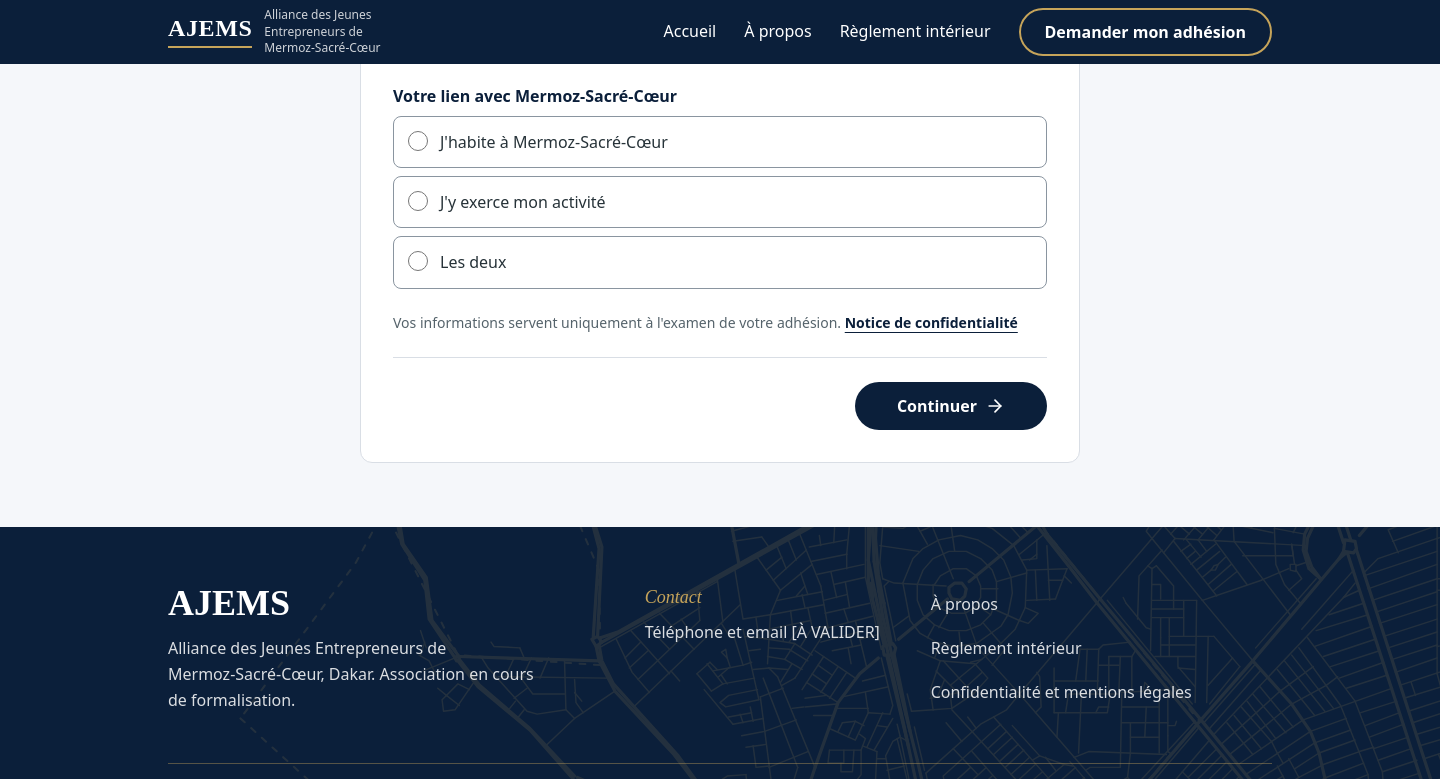
it: membership form › shows errors and stays on step 1 when required fields are empty
(page scrolled)
Click the button "Continuer" at (951, 406), box [855,382,1047,430]
(page scrolled)
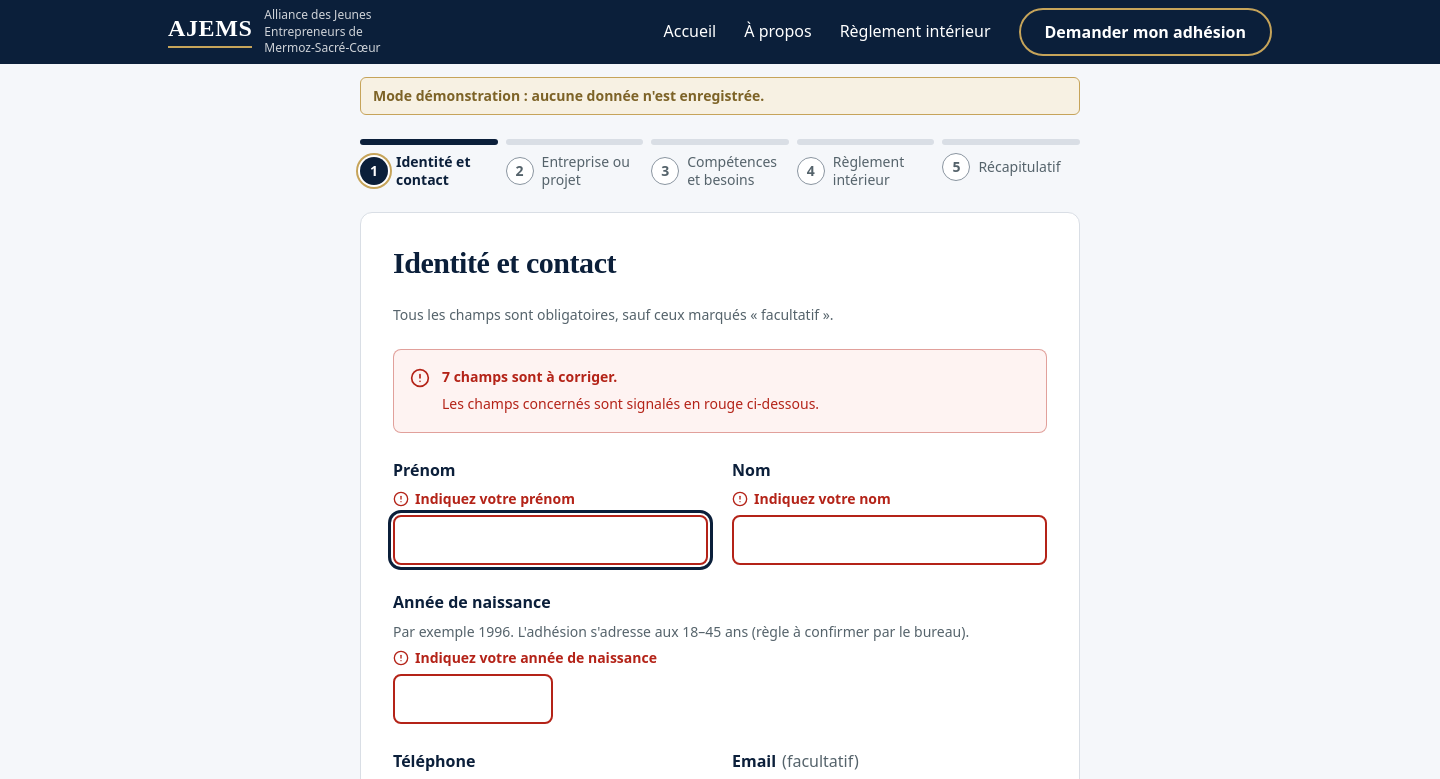
Expected: the heading reads "Identité et contact", [393,246,616,279]
Result: the message shows "champs sont à corriger" at [442,367,617,386]
Result: the text "Indiquez votre prénom" is shown at [415,489,575,509]
